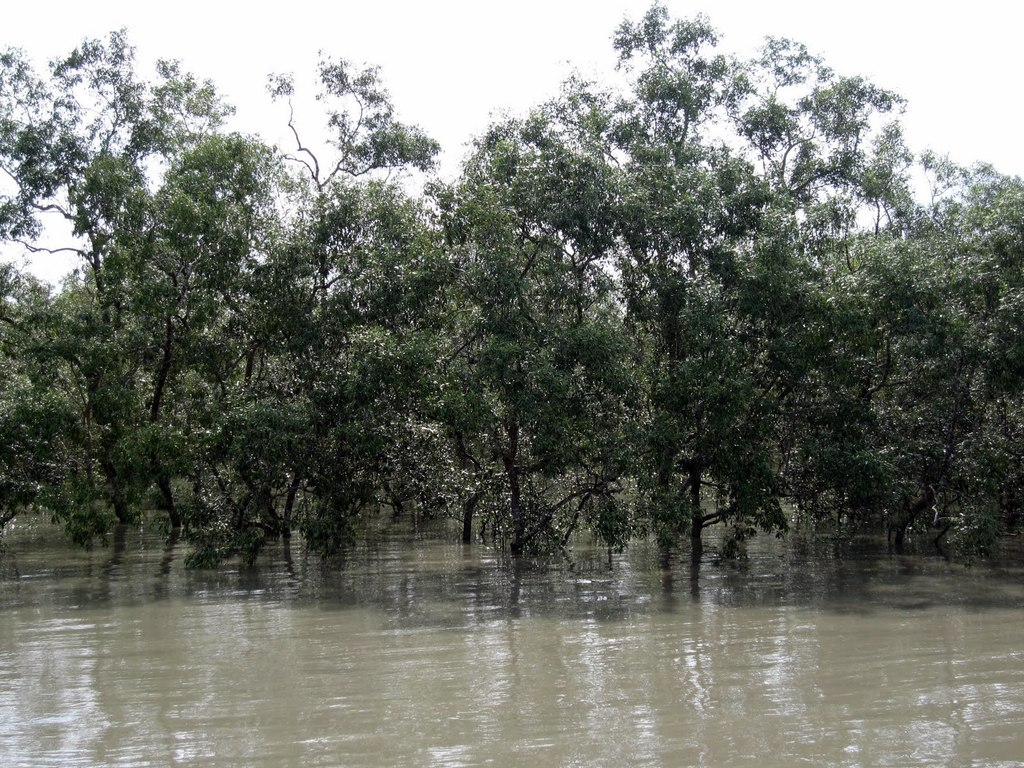Tree: (0, 1, 1020, 586)
